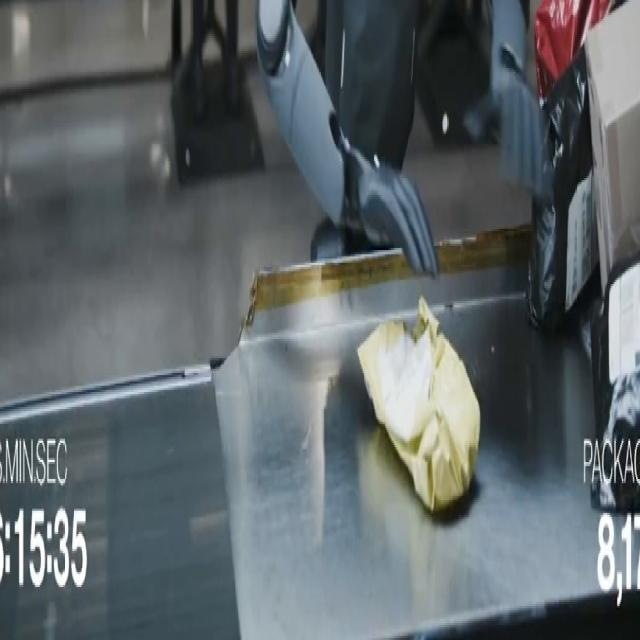package: (358, 299, 480, 512), (528, 49, 597, 330), (325, 0, 419, 169), (586, 3, 639, 288), (591, 255, 639, 512), (534, 0, 615, 99)
